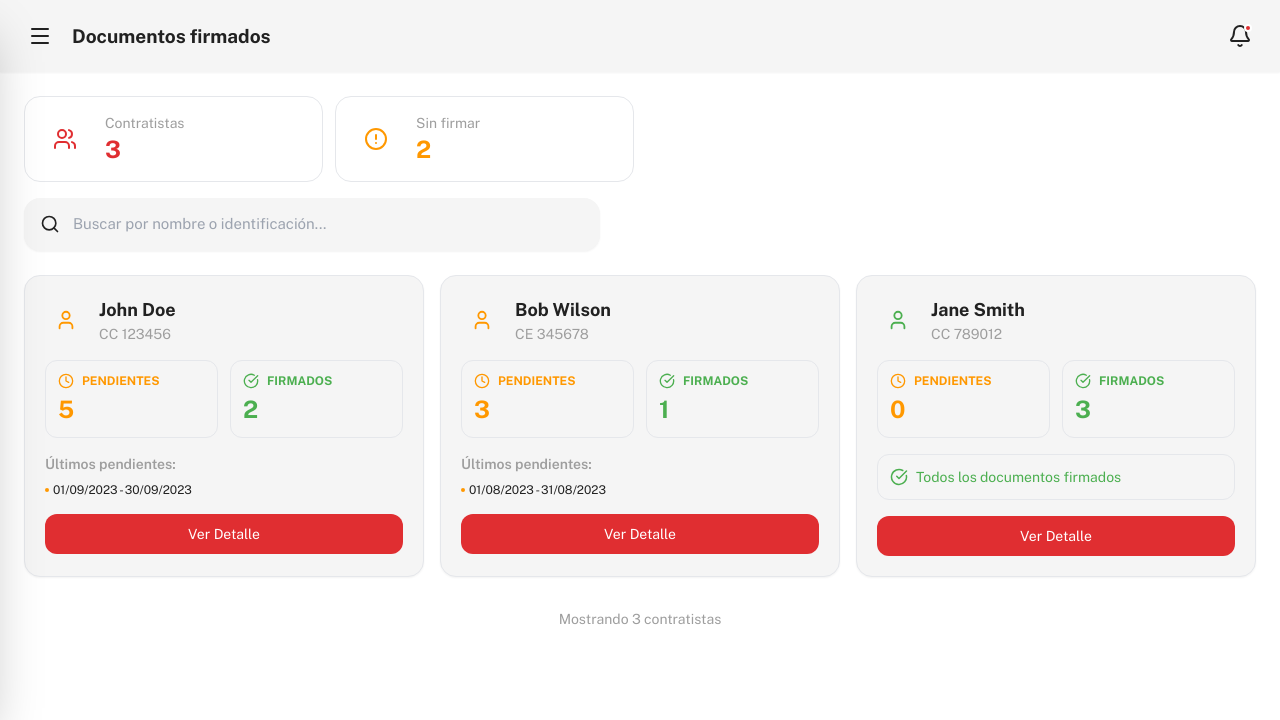
Test: ContractorSigningDashboard Page › filters contractors locally by search query
Expected: the heading "John Doe" is shown, x1=99 y1=298 x2=176 y2=320
Expected: the heading "Jane Smith" is shown, x1=931 y1=298 x2=1025 y2=320
Search for "John"
Type "John" into the field with placeholder "Buscar por nombre o identificación..." at (312, 224), box x1=24 y1=198 x2=600 y2=250
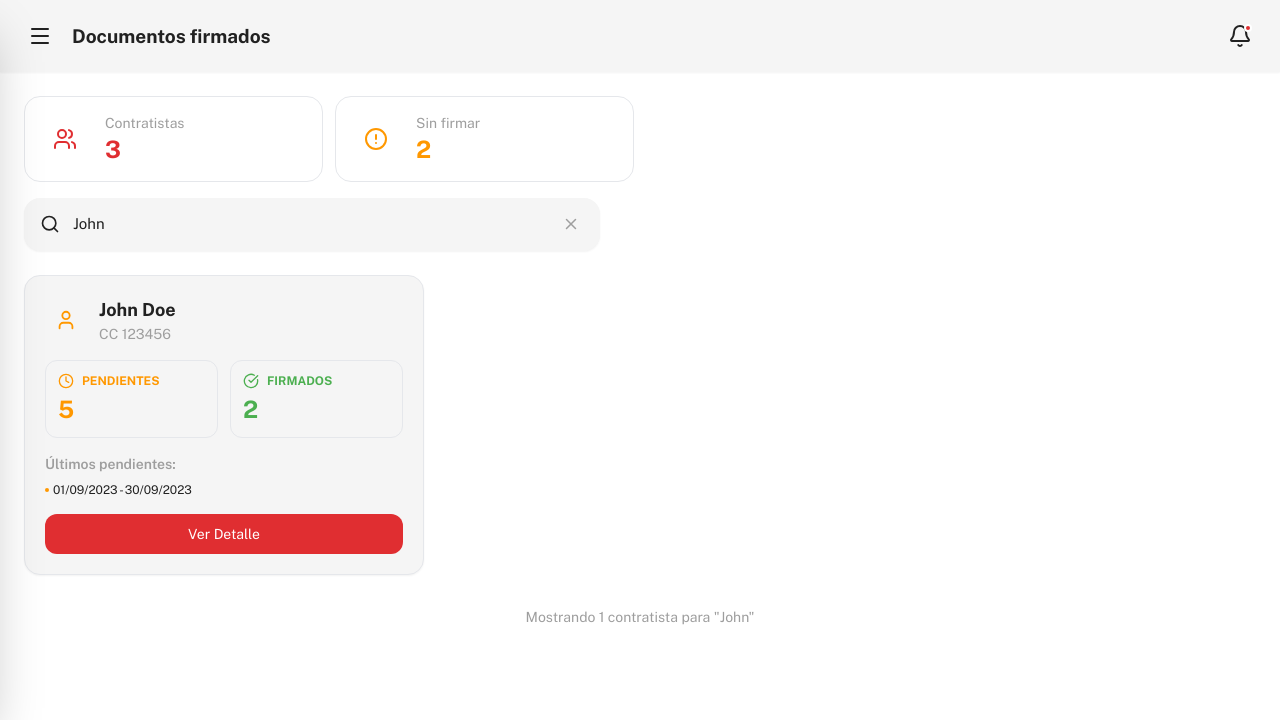
Expected: the heading "John Doe" is shown, x1=99 y1=298 x2=176 y2=320
Result: the heading "Jane Smith" is gone
Result: the heading "Bob Wilson" is gone
